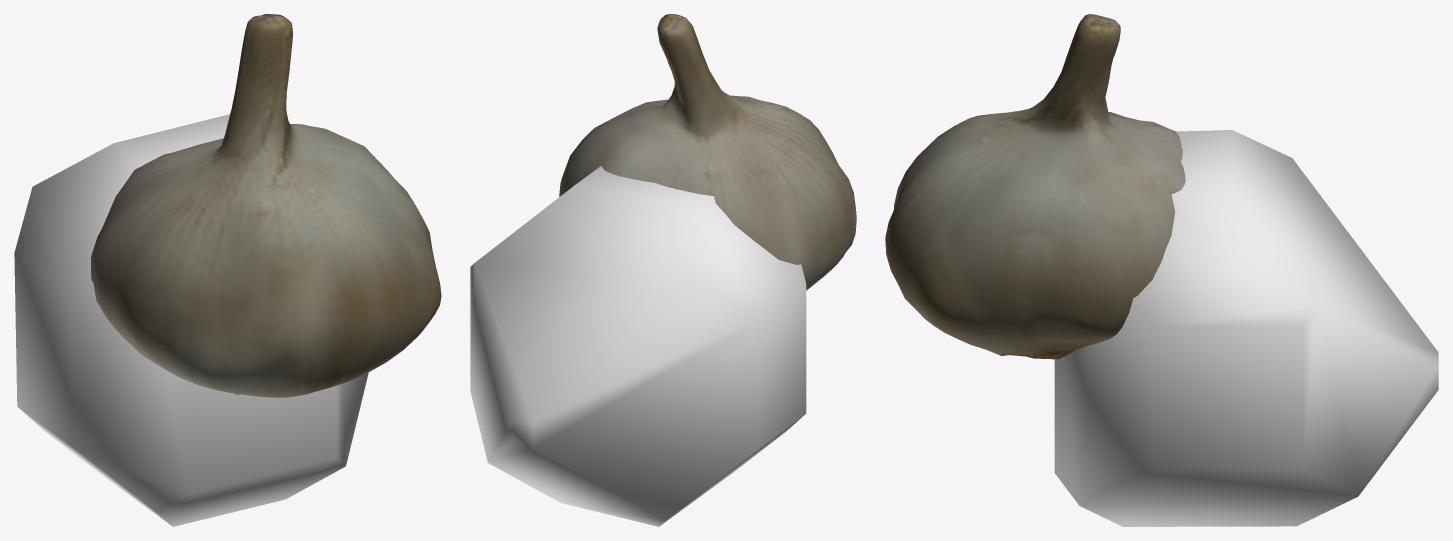
File: SM_Garlic_B_Food.fbx
3 views of the same model, side by side, from view 1: azimuth 30°, elevation 25°; view 2: azimuth 150°, elevation 25°; view 3: azimuth 270°, elevation 25° (orthographic). The views are drawn at different scales.
Parts seen in each view (by area): view 1: SM_Garlic_B_Food, SM_Garlic_B_Food_ConvexHulls; view 2: SM_Garlic_B_Food_ConvexHulls, SM_Garlic_B_Food; view 3: SM_Garlic_B_Food_ConvexHulls, SM_Garlic_B_Food.
Boxes of the visible parts, bbox=[...] form: SM_Garlic_B_Food: bbox=[90, 14, 441, 397]; SM_Garlic_B_Food_ConvexHulls: bbox=[14, 114, 368, 526]; SM_Garlic_B_Food_ConvexHulls: bbox=[470, 166, 806, 526]; SM_Garlic_B_Food: bbox=[559, 14, 856, 290]; SM_Garlic_B_Food_ConvexHulls: bbox=[1054, 130, 1438, 526]; SM_Garlic_B_Food: bbox=[885, 14, 1185, 359].
Size of the model in its own units: 0.0473 by 0.0732 by 0.0741.
